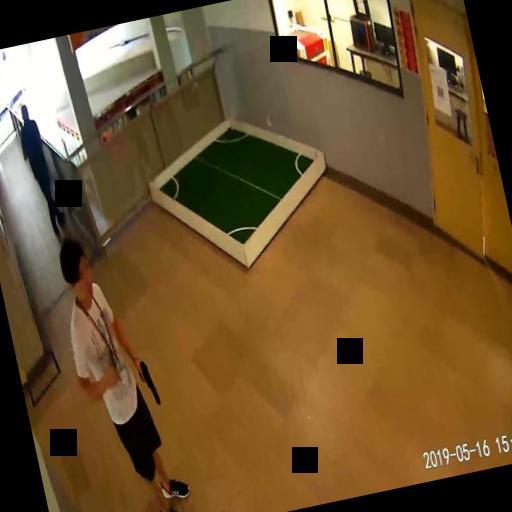Handgun: (134, 356, 158, 406)
